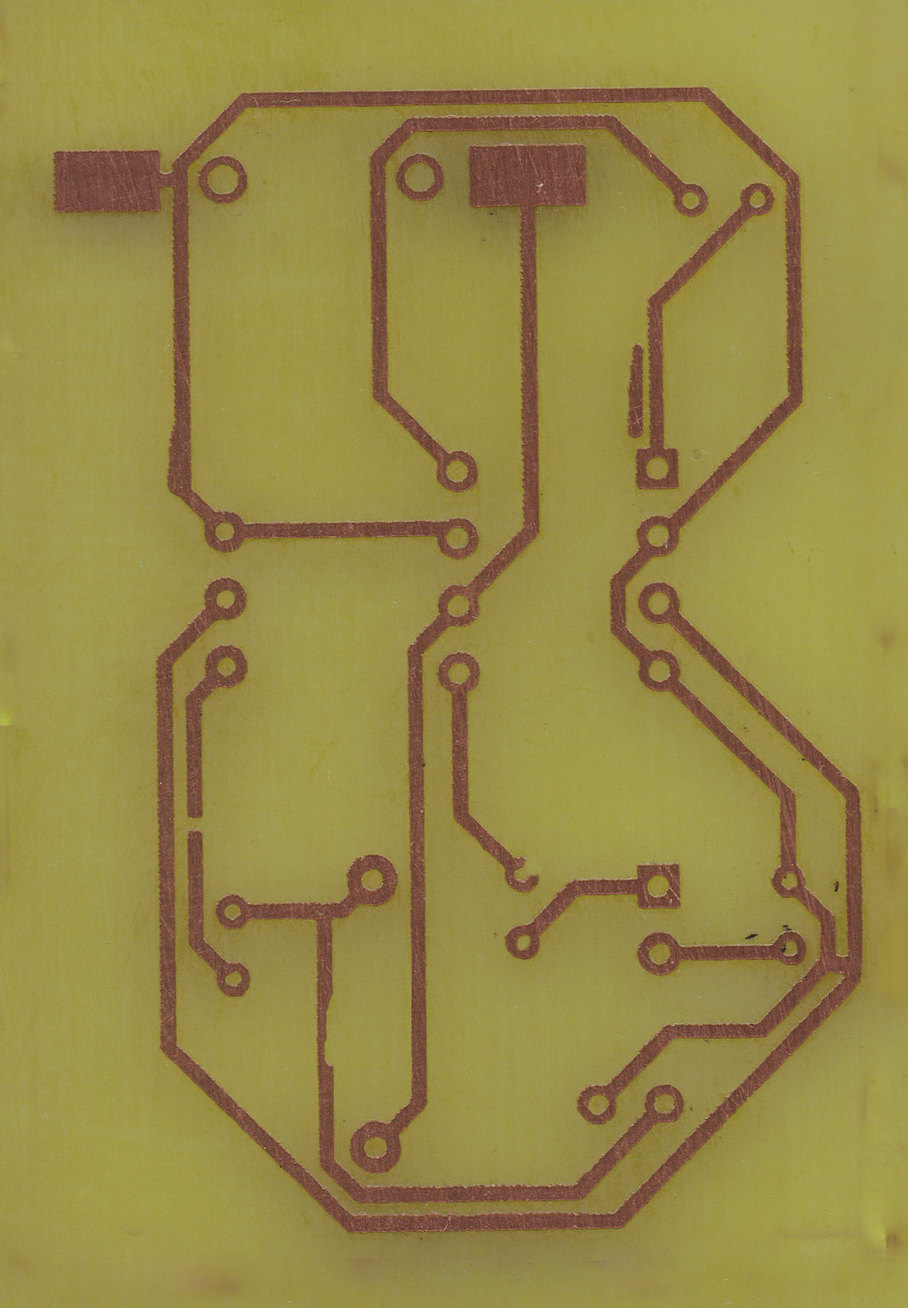missing_hole: (504, 850, 541, 899)
mouse_bite: (313, 980, 342, 1077)
open_circuit: (183, 797, 210, 848)
short: (815, 941, 868, 984)
spur: (158, 422, 202, 500)
spurious_copper: (620, 340, 651, 442)
